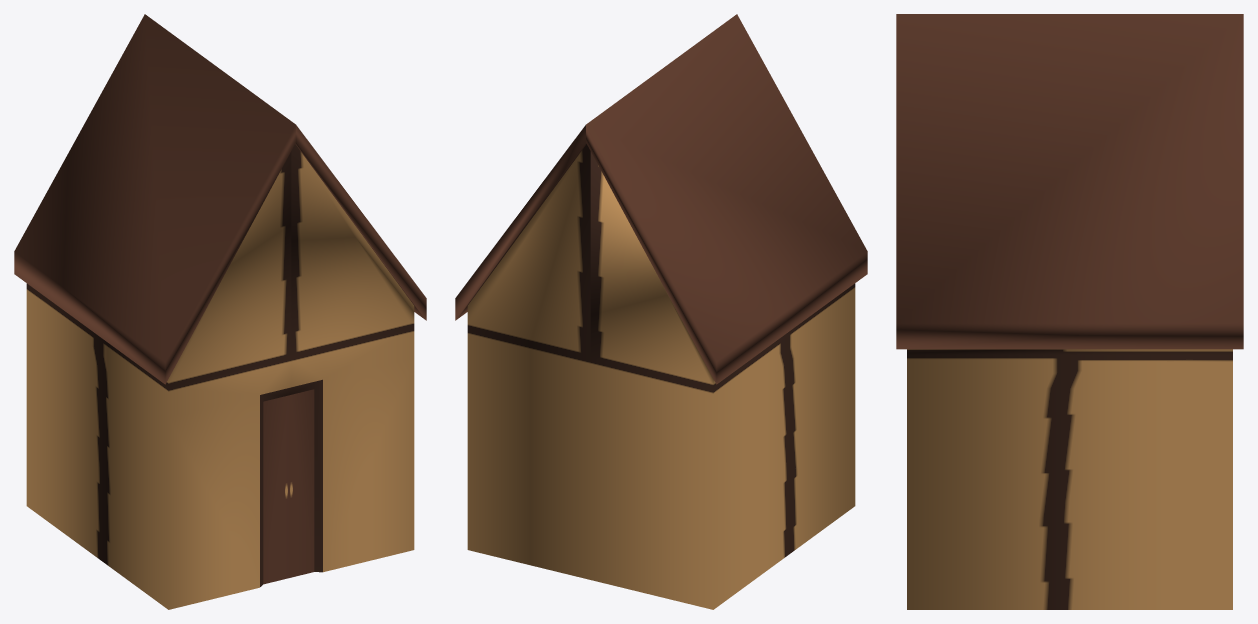
File: peasantHouse.fbx
The picture shows the model from 3 angles, left to right: view 1: azimuth 30°, elevation 25°; view 2: azimuth 150°, elevation 25°; view 3: azimuth 270°, elevation 25°; orthographic projection. The views are drawn at different scales.
Visible parts, largest first — view 1: PeasantHouse; view 2: PeasantHouse; view 3: PeasantHouse.
Boxes of the visible parts, x1=… form: PeasantHouse: x1=14, y1=14, x2=426, y2=609; PeasantHouse: x1=455, y1=14, x2=867, y2=609; PeasantHouse: x1=896, y1=14, x2=1243, y2=609.
Size of the model in its own units: 21.28 by 35.69 by 21.31.
